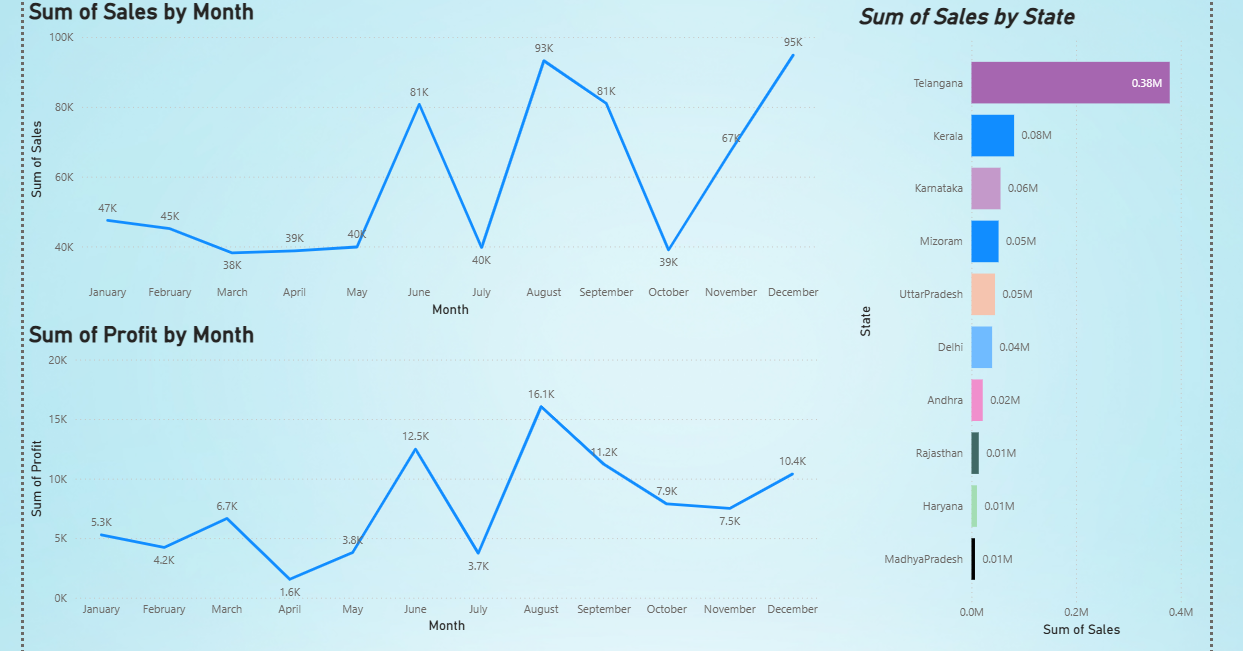

What the dashboard file says about the page in this screenshot:
{"tool":"powerbi","page":{"name":"Page 2","canvas":[1280,720],"ordinal":1},"visuals":[{"type":"barChart","fields":{"Category":["Order Data.State"],"Y":["Sum(Order Data.Sales)"]},"box":[896,16,384,688],"z":0},{"type":"lineChart","fields":{"Category":["Order Data.Order Date.Variation.Date Hierarchy.Month"],"Y":["Sum(Order Data.Profit)"]},"box":[0,359.5,866.3,341.7],"z":1000},{"type":"lineChart","fields":{"Y":["Sum(Order Data.Sales)"],"Category":["Order Data.Order Date.Variation.Date Hierarchy.Month"]},"box":[0,11.3,866.3,348.1],"z":2000}]}

Visuals, with their boxes on the page's 1280x720 design canvas (x1, y1, x2, y2). These are canvas units, not pixel positions in the 1243x651 screenshot, which may show the page scaled, cropped or inside an application window:
barChart - Order Data.State x Sum(Order Data.Sales): [x1=896, y1=16, x2=1280, y2=704]
lineChart - Order Data.Order Date.Variation.Date Hierarchy.Month x Sum(Order Data.Profit): [x1=0, y1=360, x2=866, y2=701]
lineChart - Sum(Order Data.Sales) x Order Data.Order Date.Variation.Date Hierarchy.Month: [x1=0, y1=11, x2=866, y2=359]
